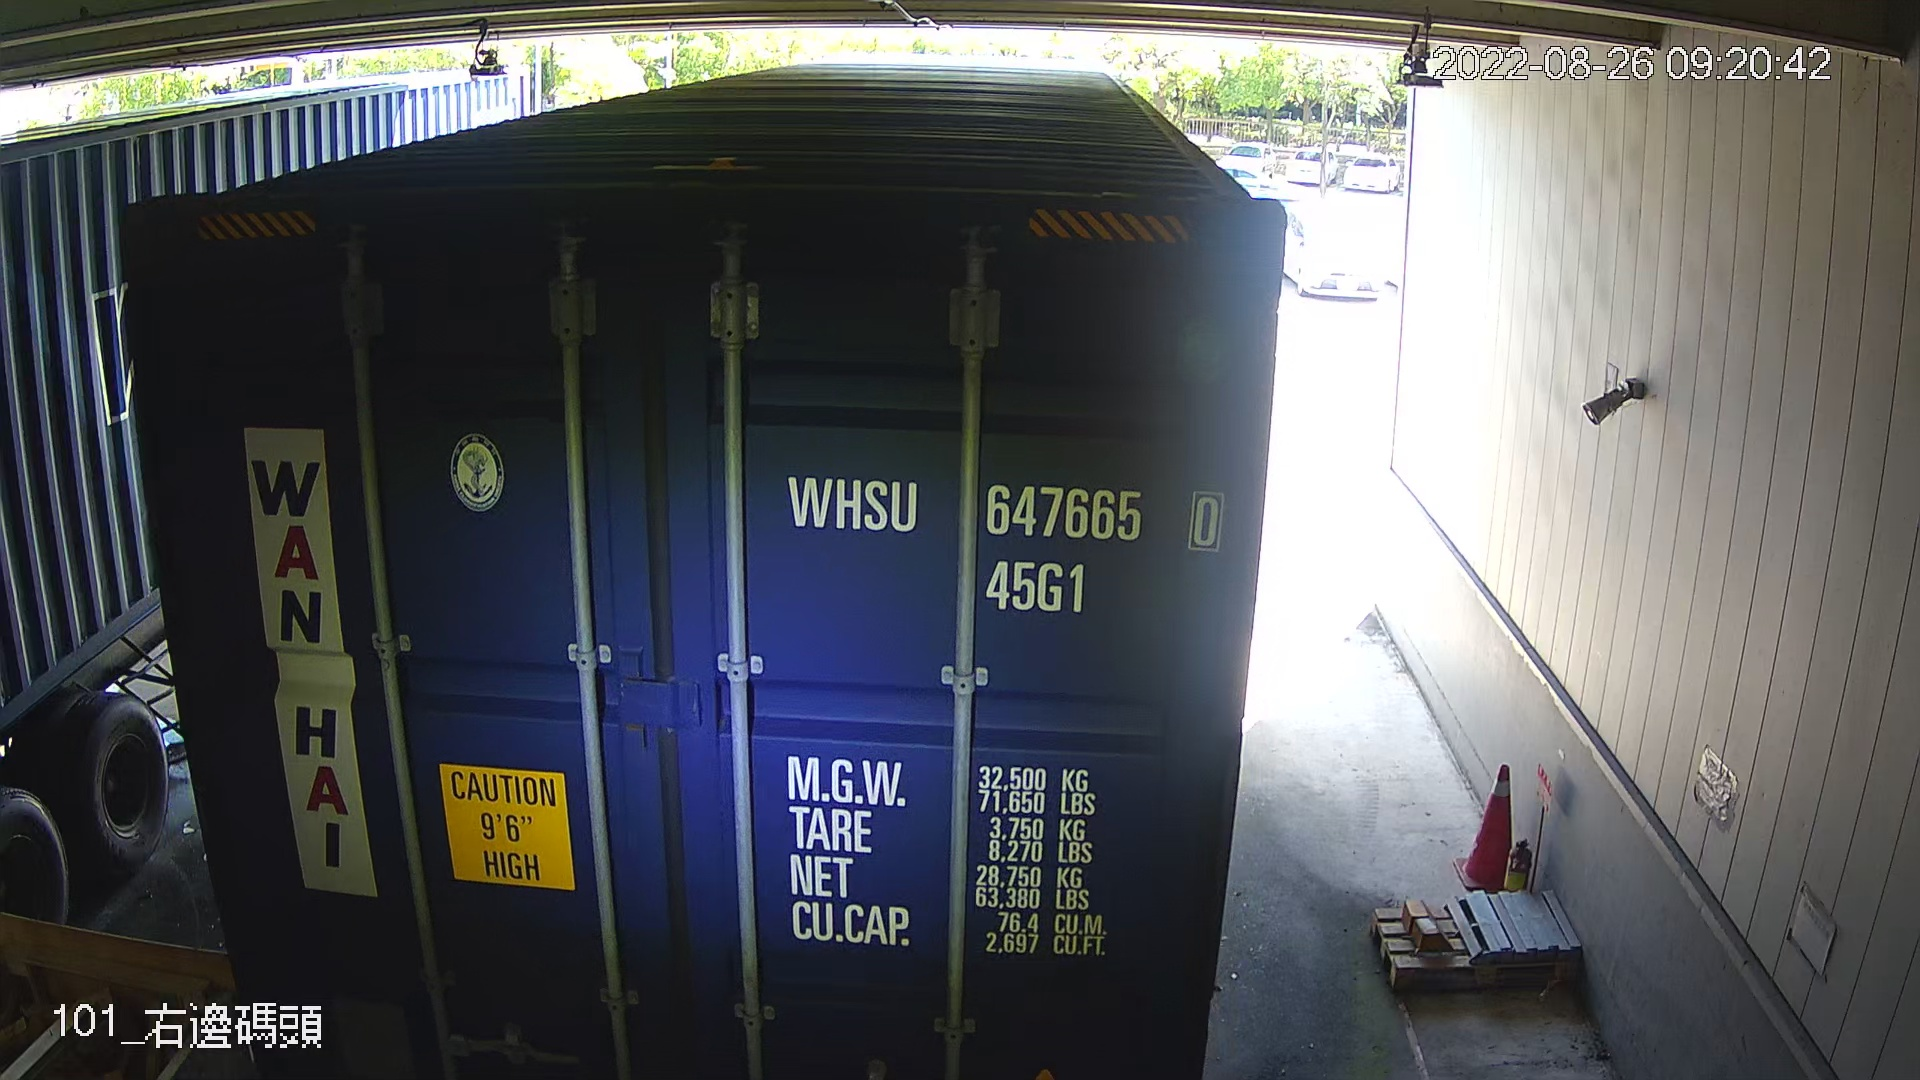container: (773, 454, 1234, 626)
